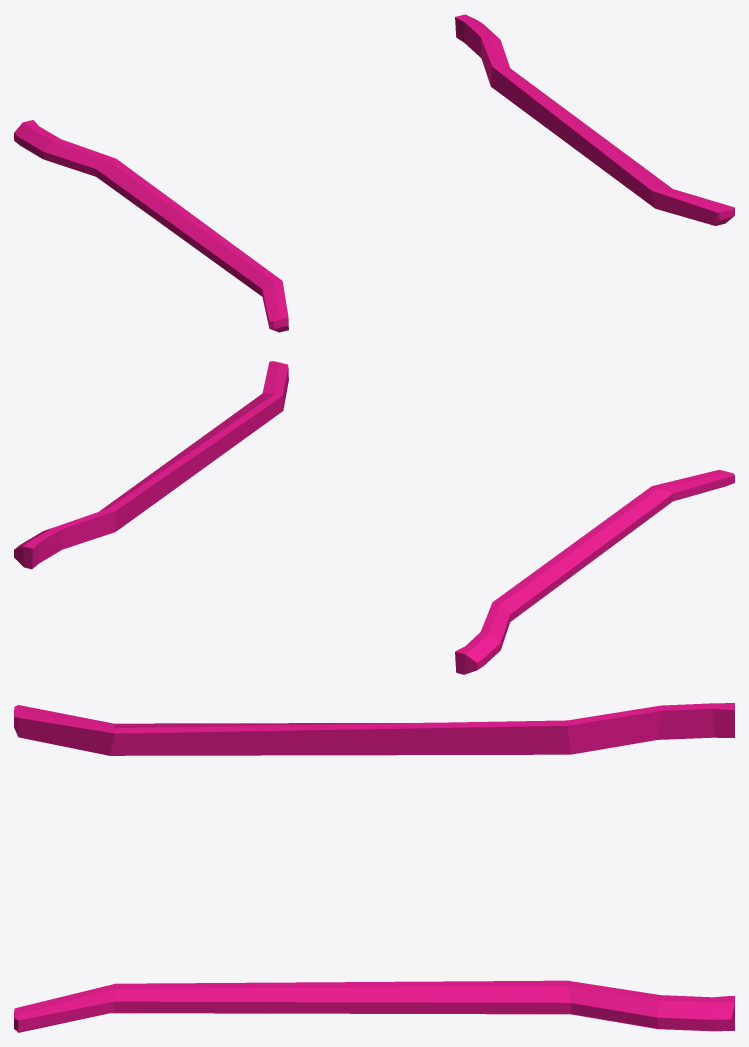
Rendered from SM_Veh_Touring_01_Side_Skirts_02.fbx.
3 views of the same model, one above another, from view 1: azimuth 30°, elevation 25°; view 2: azimuth 150°, elevation 25°; view 3: azimuth 270°, elevation 25° (orthographic). The views are drawn at different scales.
Parts seen in each view (by area): view 1: SM_Veh_Touring_01_Side_Skirts_02; view 2: SM_Veh_Touring_01_Side_Skirts_02; view 3: SM_Veh_Touring_01_Side_Skirts_02.
Boxes of the visible parts, left/top/right/bottom form: SM_Veh_Touring_01_Side_Skirts_02: left=14, top=14, right=734, bottom=332; SM_Veh_Touring_01_Side_Skirts_02: left=14, top=361, right=734, bottom=674; SM_Veh_Touring_01_Side_Skirts_02: left=14, top=703, right=734, bottom=1032.
Size of the model in its own units: 213 by 9.08 by 206.
